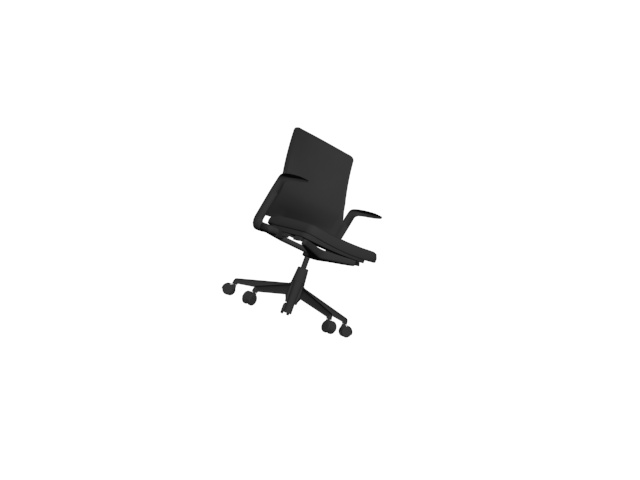desk_chair: (217, 121, 384, 344)
